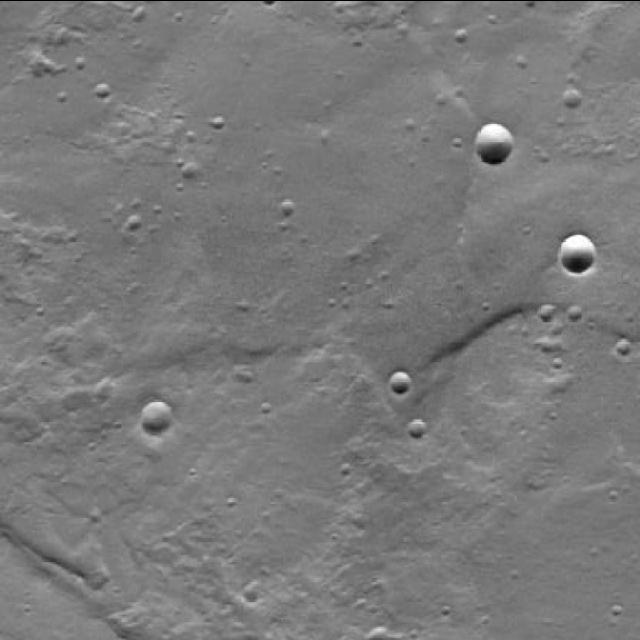crater: (472, 119, 512, 161), (555, 229, 593, 269), (140, 398, 172, 432), (390, 366, 412, 388), (364, 620, 387, 640), (404, 414, 424, 434), (557, 90, 574, 108), (614, 340, 630, 358)
